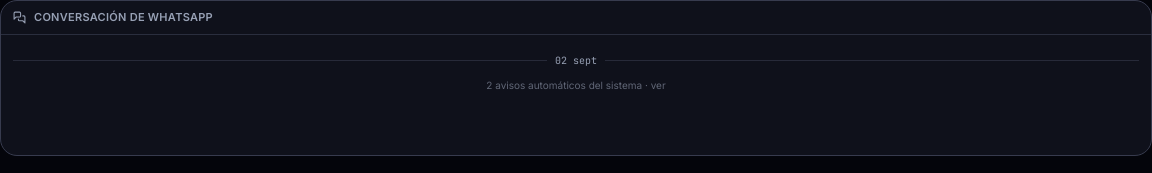
Test: ConversacionChat — avisos automáticos › ⛔ un clic los muestra: se pliegan, NO se esconden
The width and height of the screenshot is (1152, 173).
Click the button "2 avisos automáticos del sistema · ver". click: (576, 85)
box: [470,76,682,94]
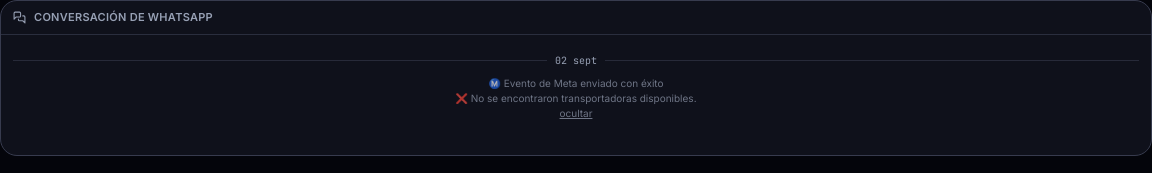
Result: the text "❌ No se encontraron transportadoras disponibles." is shown at [456,92,697,104]
Result: the button "ocultar" is shown at [560,106,592,120]
